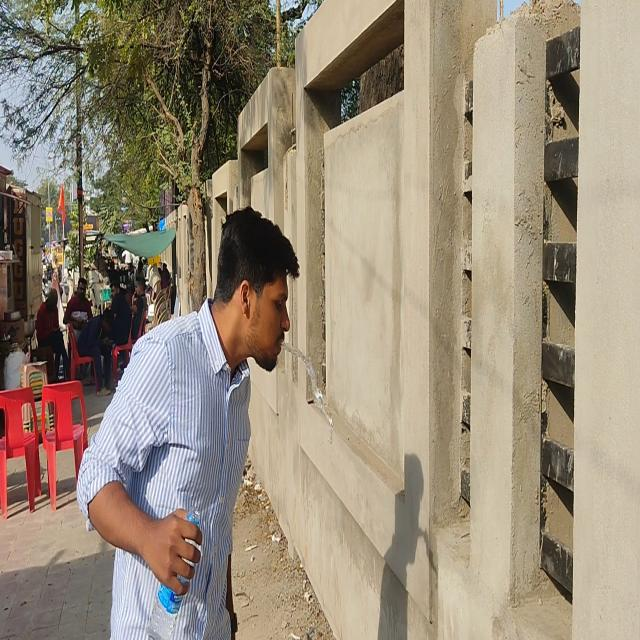spit: (216, 215, 342, 449)
